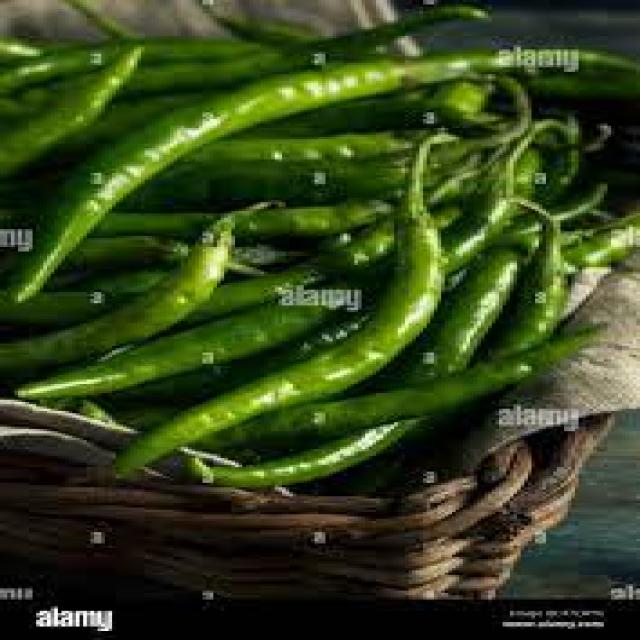Chili Pepper: (0, 110, 615, 498), (0, 0, 640, 316)
